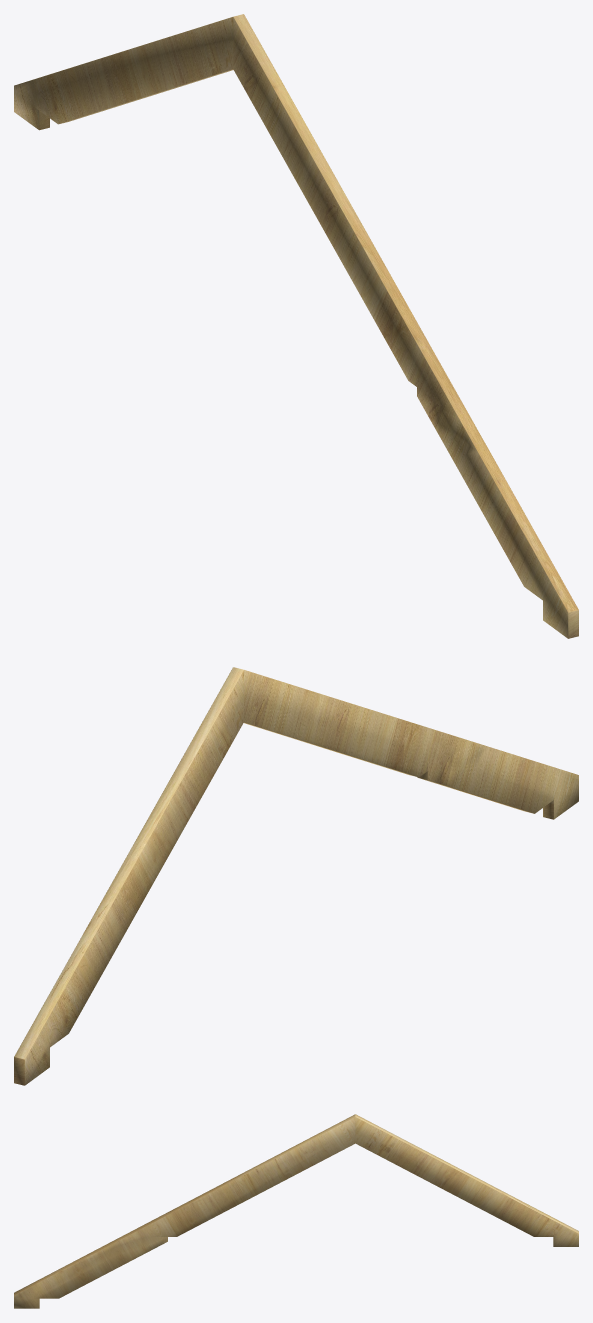
3 views of the same model, one above another, from view 1: azimuth 30°, elevation 25°; view 2: azimuth 150°, elevation 25°; view 3: azimuth 270°, elevation 25° (orthographic). The views are drawn at different scales.
Visible parts, largest first — view 1: 3roof_bulk_0; view 2: 3roof_bulk_0; view 3: 3roof_bulk_0.
Part boxes in pixels (x1,y1,x2,y2): 3roof_bulk_0: (14,14,578,638); 3roof_bulk_0: (14,667,578,1085); 3roof_bulk_0: (14,1114,578,1308).
Size of the model in its own units: 0.0506 by 1.65 by 4.4.
Materials: 1 (1 with a texture image).
